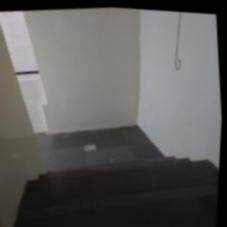Animal: (19, 135, 190, 202)
